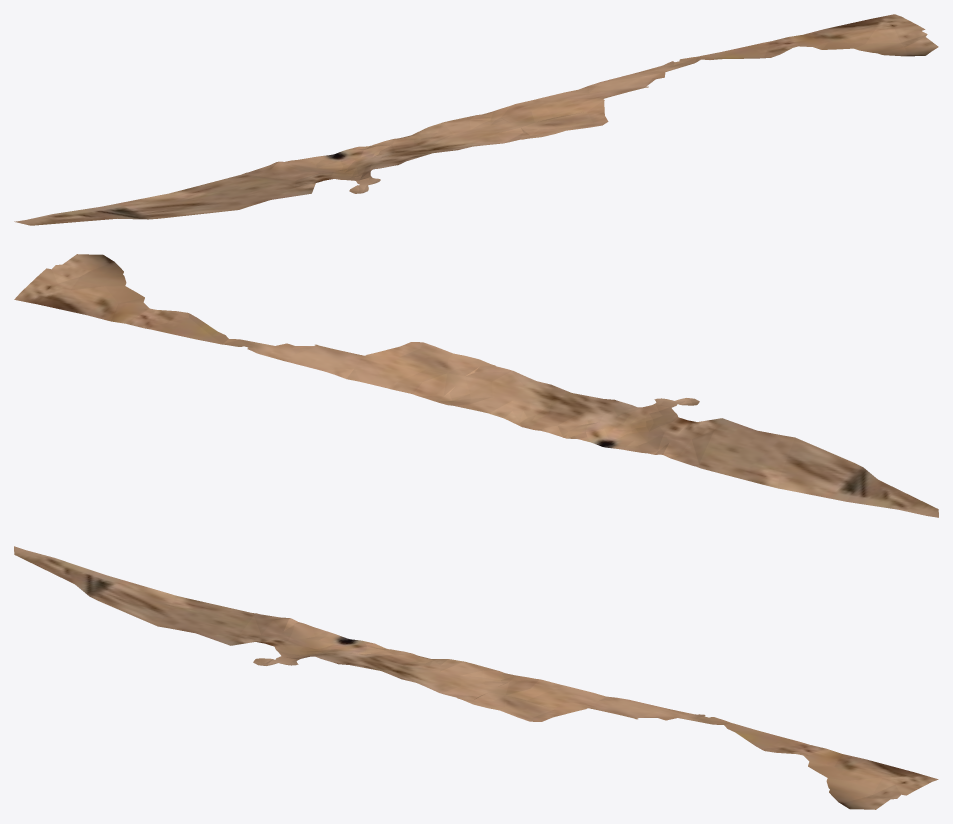
The picture shows the model from 3 angles, top to bottom: view 1: azimuth 30°, elevation 25°; view 2: azimuth 150°, elevation 25°; view 3: azimuth 330°, elevation 25°; orthographic projection. The views are drawn at different scales.
Bounding box in the file's own units: 5.77 × 0.0696 × 0.6591.
1 material, 1 textured.
